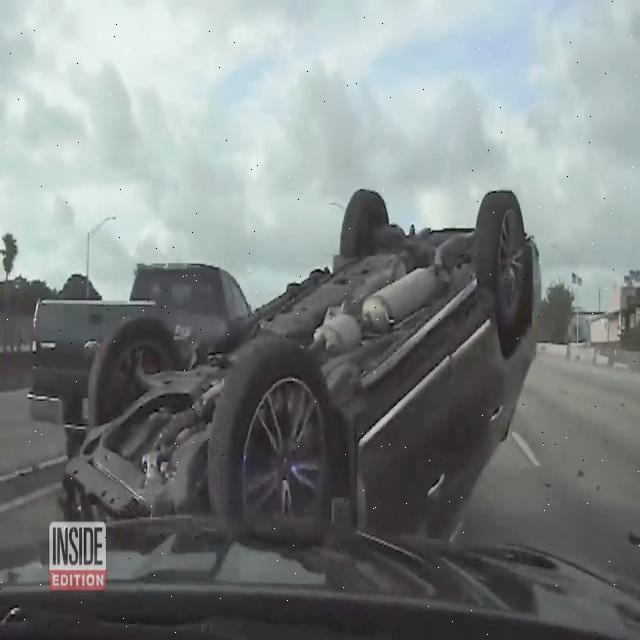accident: (93, 158, 540, 532)
